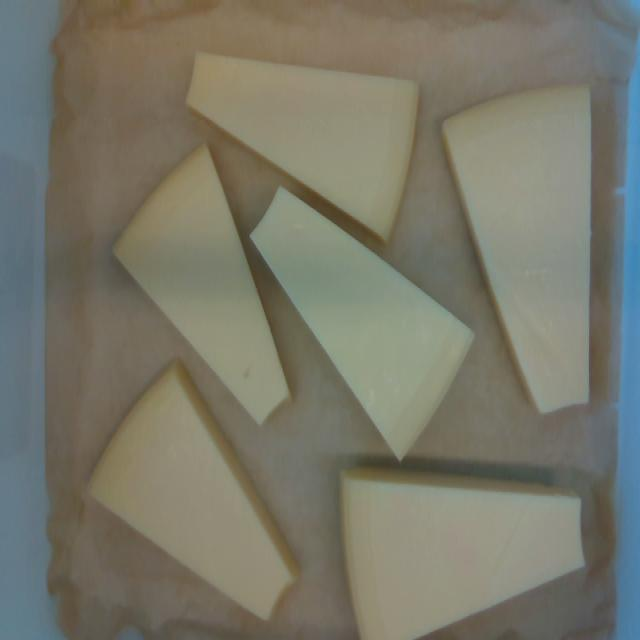Cheese: (251, 189, 471, 459), (90, 364, 293, 617), (115, 148, 288, 423), (445, 87, 590, 412), (187, 55, 417, 237), (341, 471, 583, 639)
